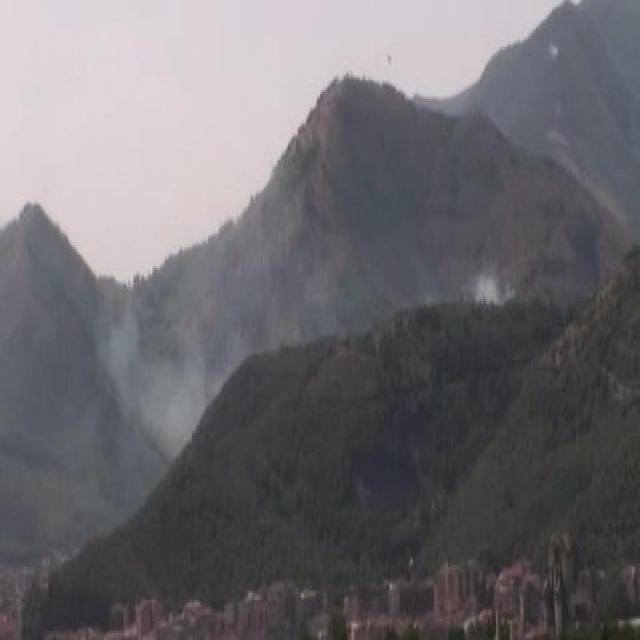smoke: (114, 297, 222, 443)
